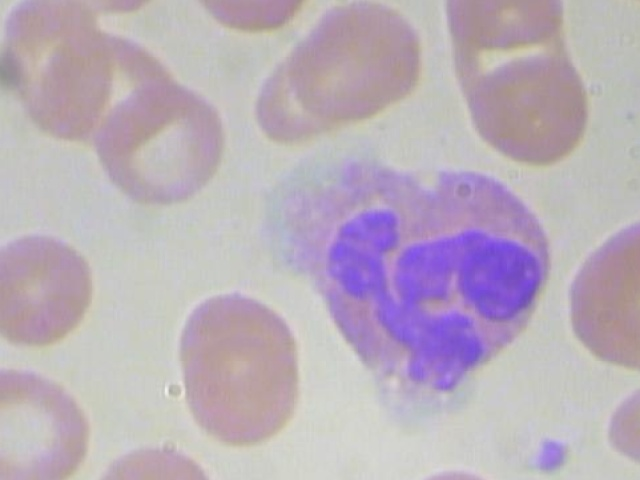Platelets: (519, 429, 581, 480)
RBC: (88, 78, 240, 213), (177, 325, 324, 446), (170, 290, 317, 411), (464, 45, 593, 164), (303, 0, 432, 112), (0, 223, 107, 342), (0, 358, 92, 480), (567, 233, 640, 367), (595, 218, 640, 351), (85, 438, 213, 480), (395, 466, 523, 480)
WBC: (245, 153, 585, 424)
